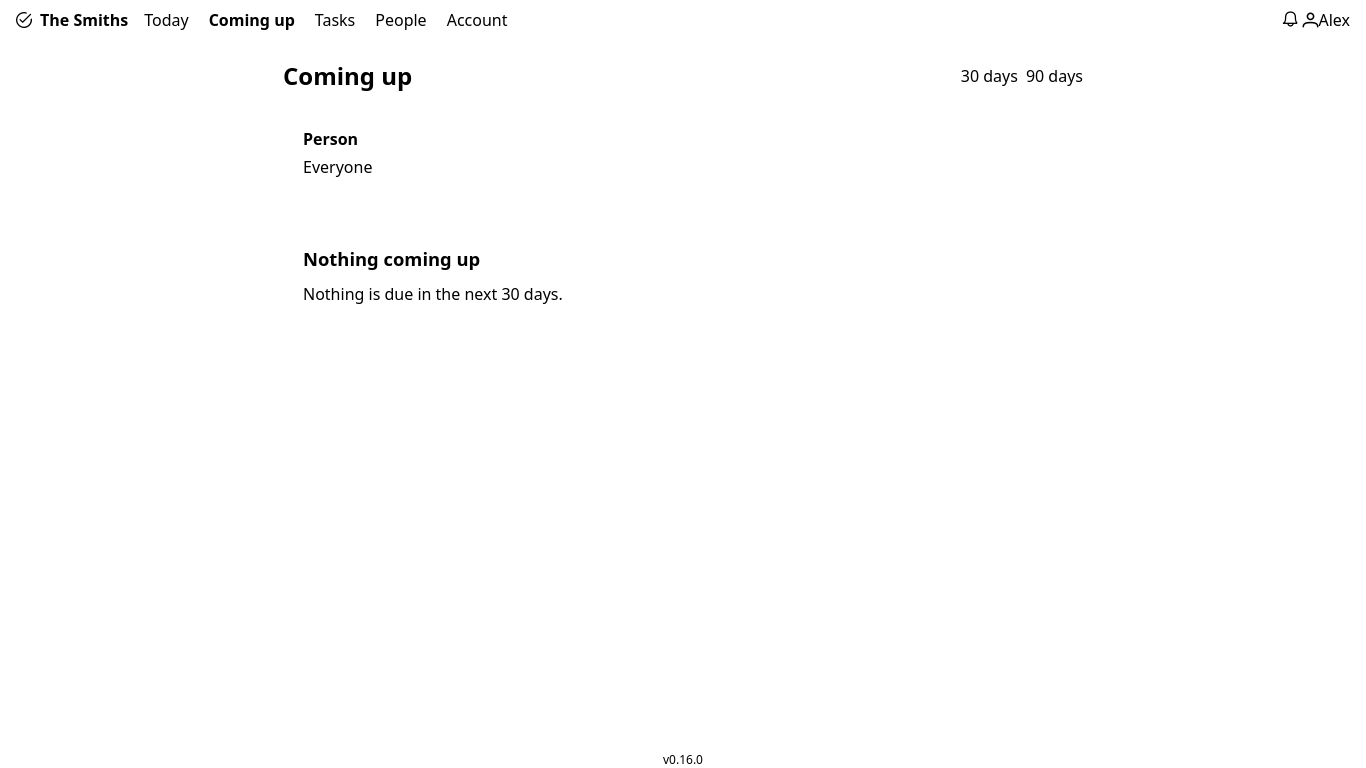
Scenario: Coming up › filters by person and keeps the days
Select "Sam" in the dropdown with id "filter-person" at {"x": 683, "y": 167}, box [303,156,1063,178]
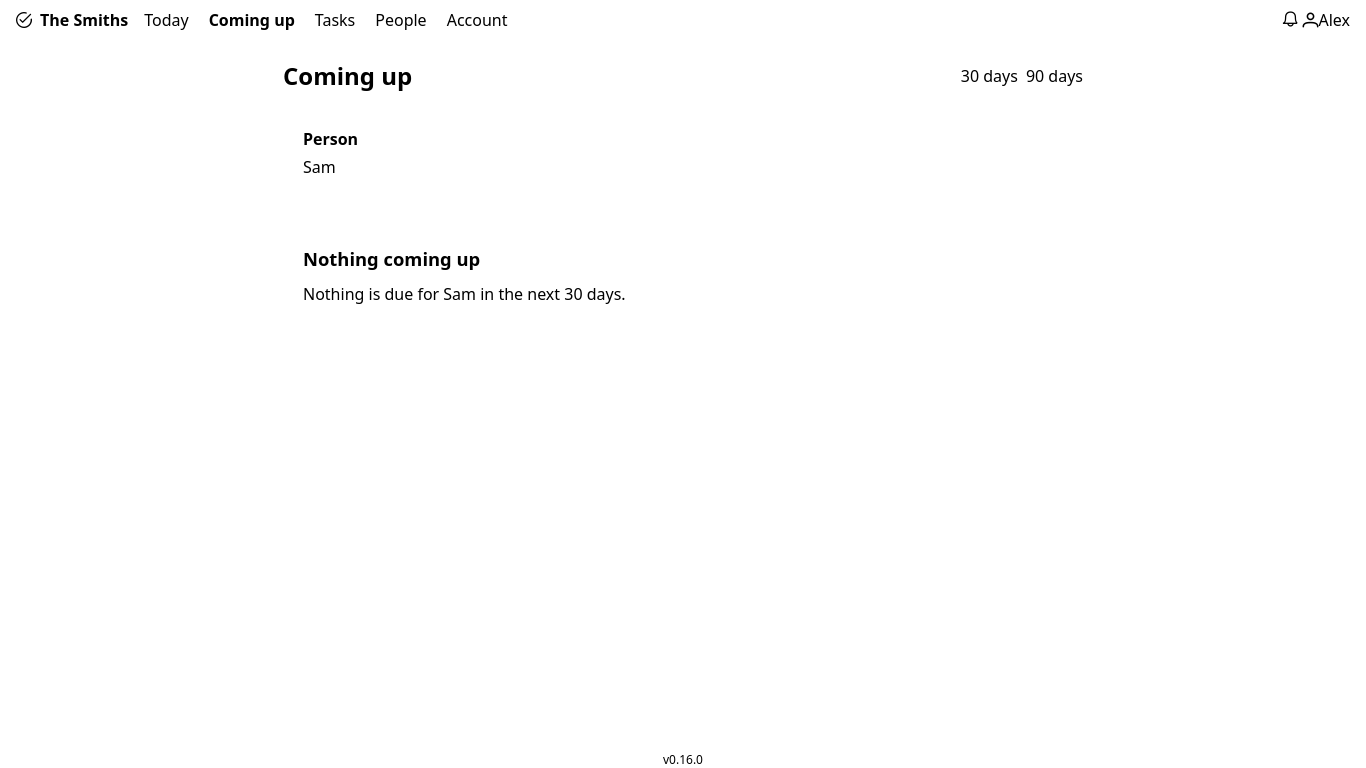
Click the button "90 days" at {"x": 1054, "y": 76}, box [1026,64,1083,86]
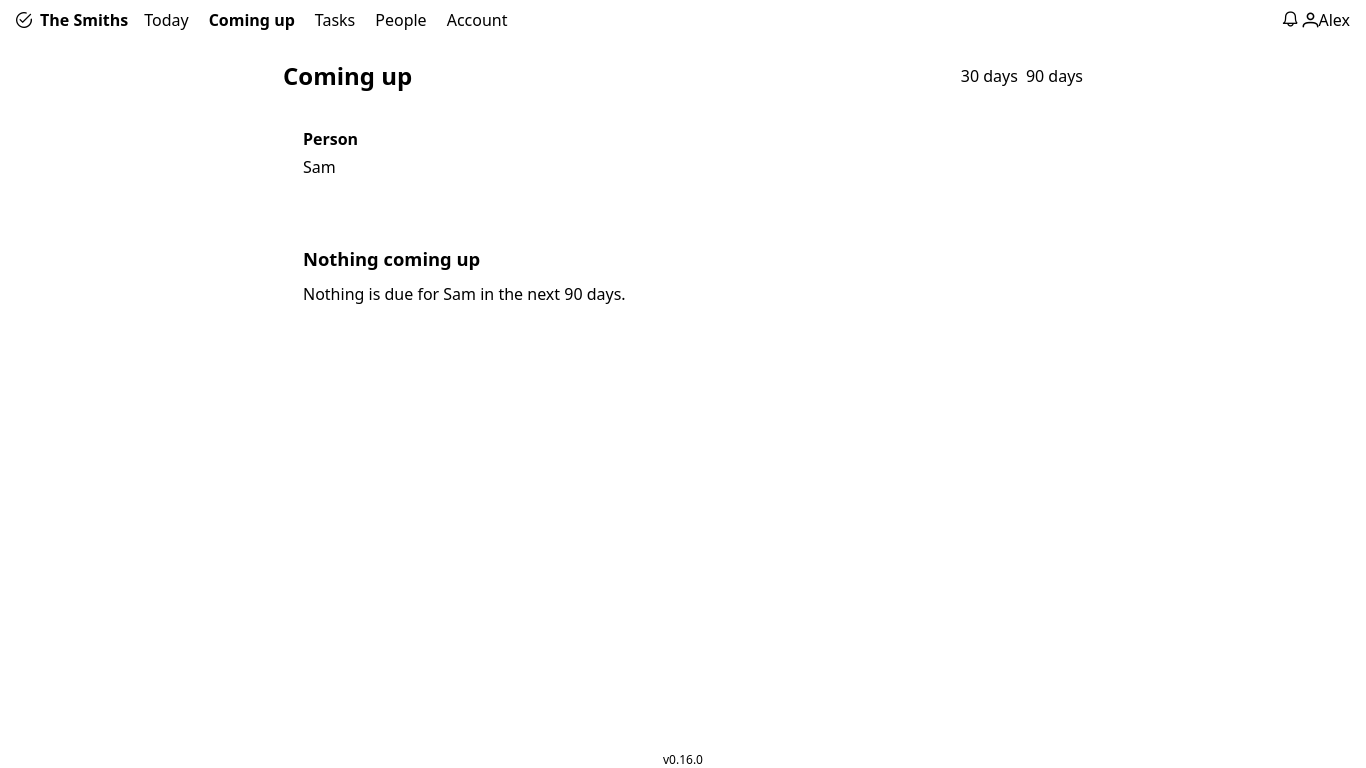
Check: the text "Nothing is due for Sam in the next 90 days" is shown, box [303,283,626,305]
